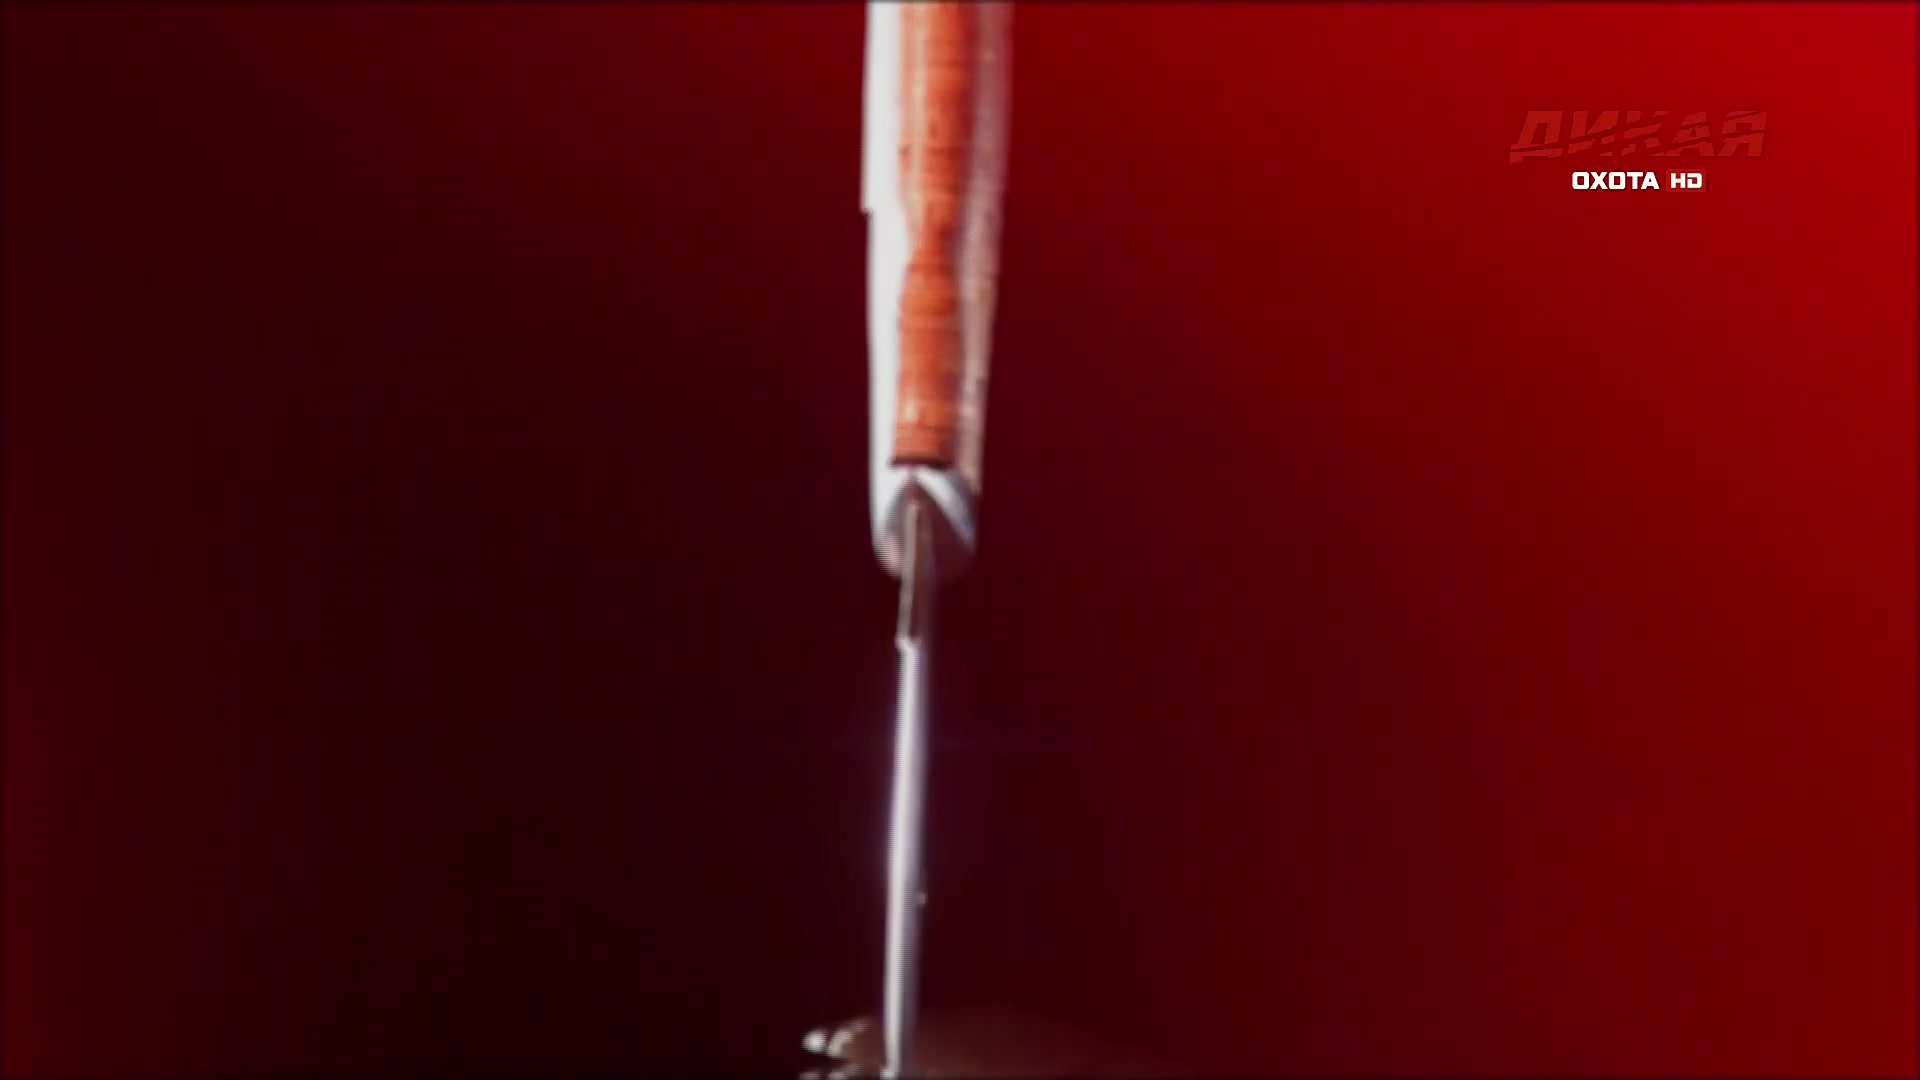Dikaya_Ohota_HD: (1505, 103, 1775, 196)
